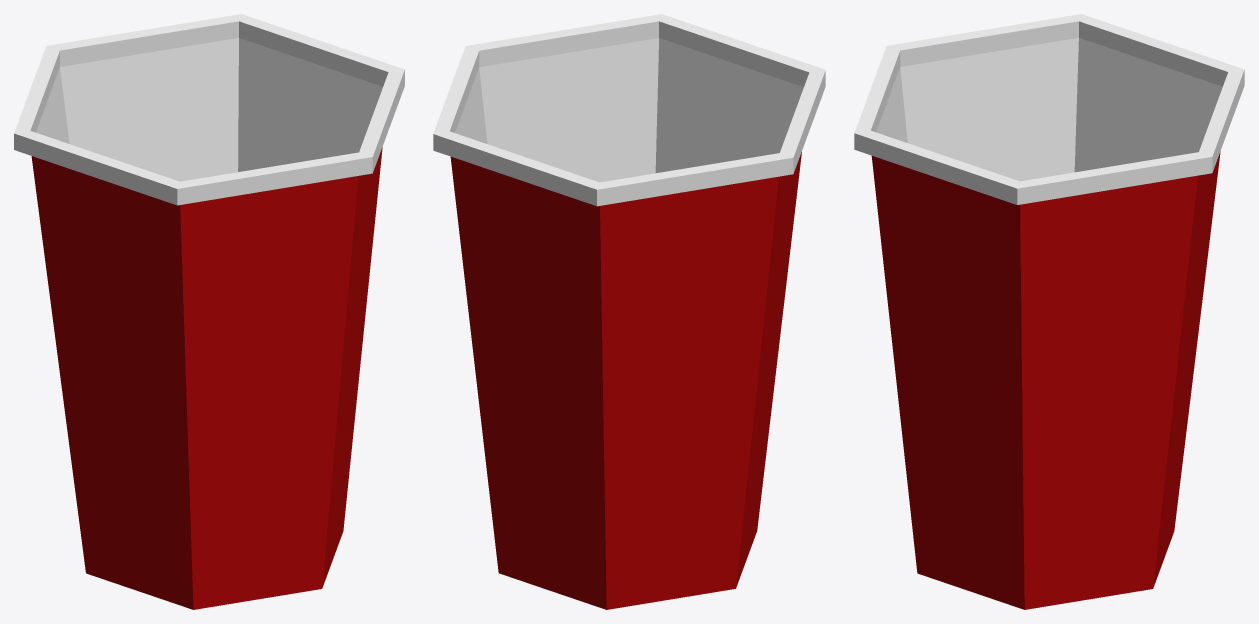
File: Dixie.dae
The picture shows the model from 3 angles, left to right: view 1: azimuth 30°, elevation 25°; view 2: azimuth 150°, elevation 25°; view 3: azimuth 270°, elevation 25°; orthographic projection.
Parts seen in each view (by area): view 1: SketchUp (×3); view 2: SketchUp (×3); view 3: SketchUp (×3).
Part boxes in pixels (box(x1,y1,x2,y2)): SketchUp (×3): box(14, 14, 404, 609); SketchUp (×3): box(433, 14, 825, 609); SketchUp (×3): box(854, 14, 1244, 609).
Bounding box in the file's own units: 18.75 × 17.7 × 22.5.
